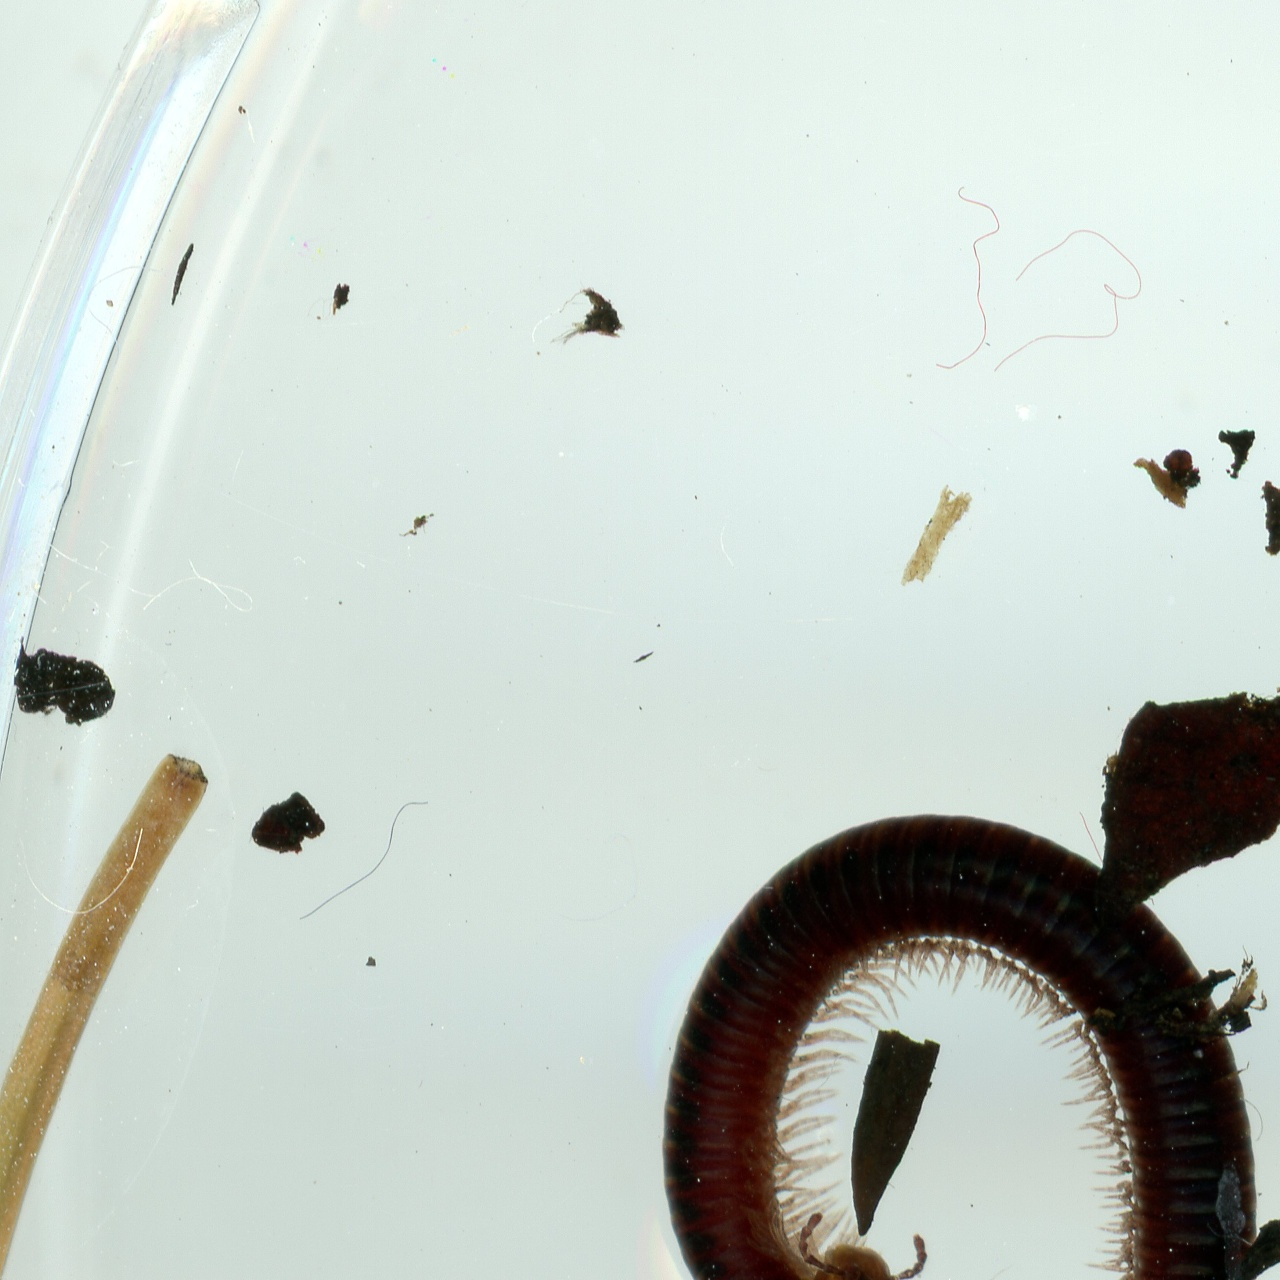arthropod: (651, 802, 1268, 1280)
